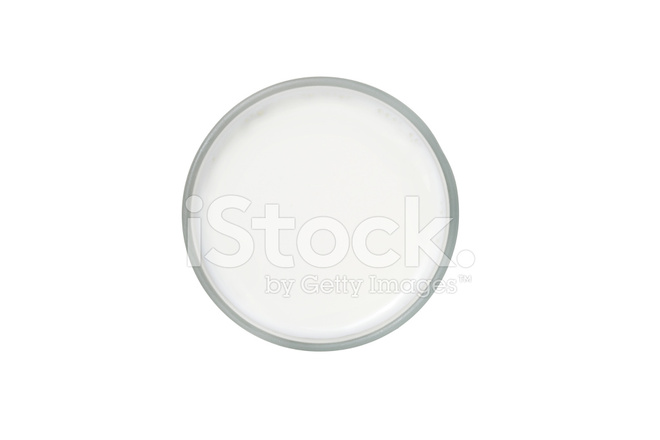glass of milk: (187, 83, 477, 345)
